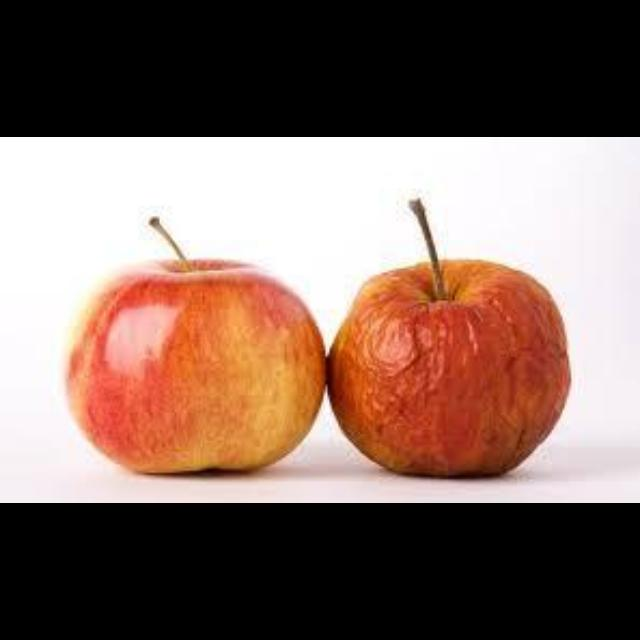apple: (67, 217, 323, 471), (328, 260, 569, 473)
